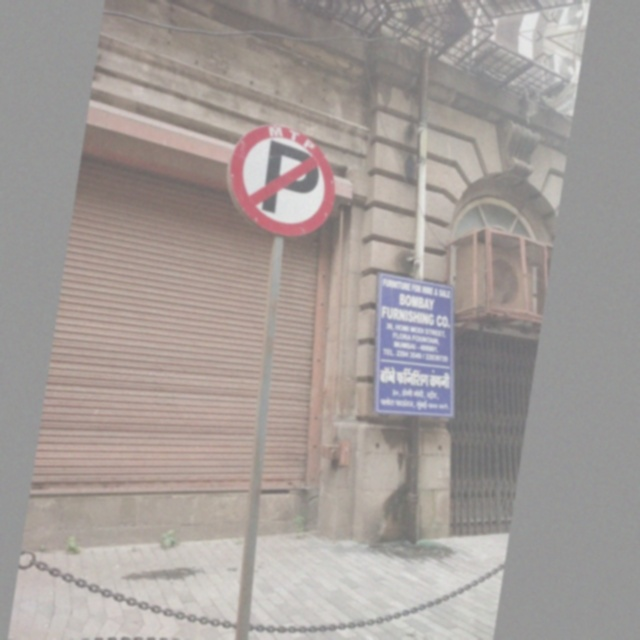No_Parking: (219, 113, 349, 245)
